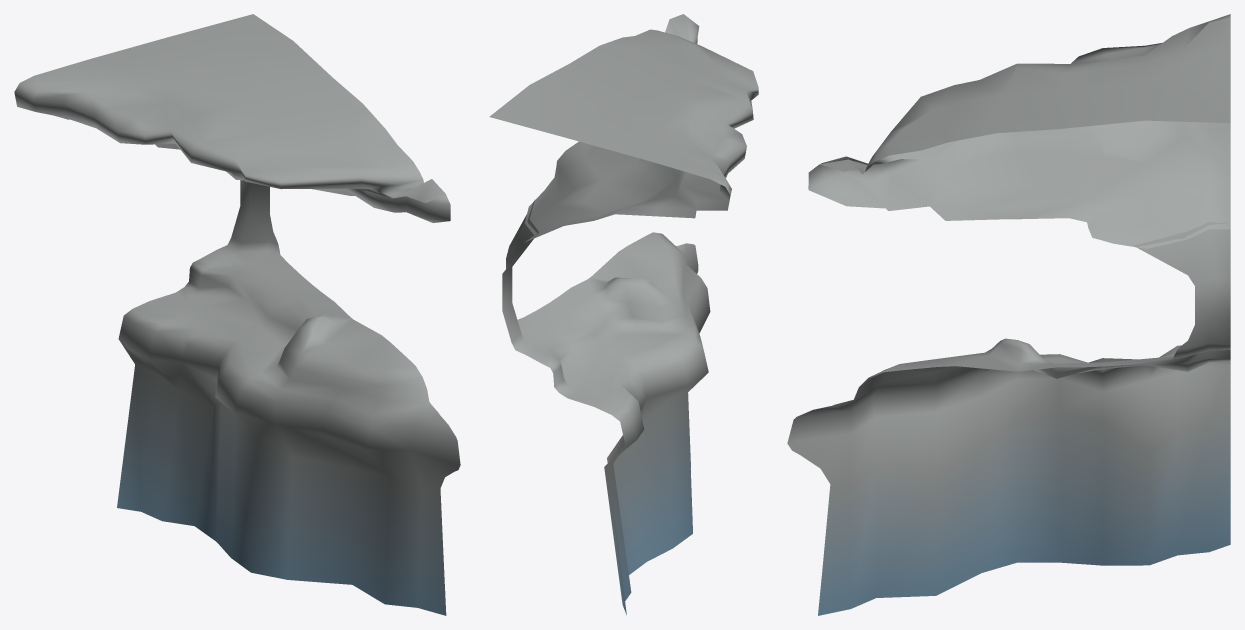
3 renders of one model, left to right at view 1: azimuth 30°, elevation 25°; view 2: azimuth 150°, elevation 25°; view 3: azimuth 270°, elevation 25°, orthographic. The views are drawn at different scales.
Parts seen in each view (by area): view 1: G:\FFXIV-MapTools\exports\w1f1\bg\ffxiv\wil_w1\fld\w1f1\bgpl (×6); view 2: G:\FFXIV-MapTools\exports\w1f1\bg\ffxiv\wil_w1\fld\w1f1\bgpl (×6); view 3: G:\FFXIV-MapTools\exports\w1f1\bg\ffxiv\wil_w1\fld\w1f1\bgpl (×6).
Boxes of the visible parts, x1,y1,x2,y2 form: G:\FFXIV-MapTools\exports\w1f1\bg\ffxiv\wil_w1\fld\w1f1\bgpl (×6): (14, 14, 460, 615); G:\FFXIV-MapTools\exports\w1f1\bg\ffxiv\wil_w1\fld\w1f1\bgpl (×6): (489, 14, 758, 615); G:\FFXIV-MapTools\exports\w1f1\bg\ffxiv\wil_w1\fld\w1f1\bgpl (×6): (787, 14, 1230, 615).
Bounding box in the file's own units: 27.65 × 51.2 × 41.53.
